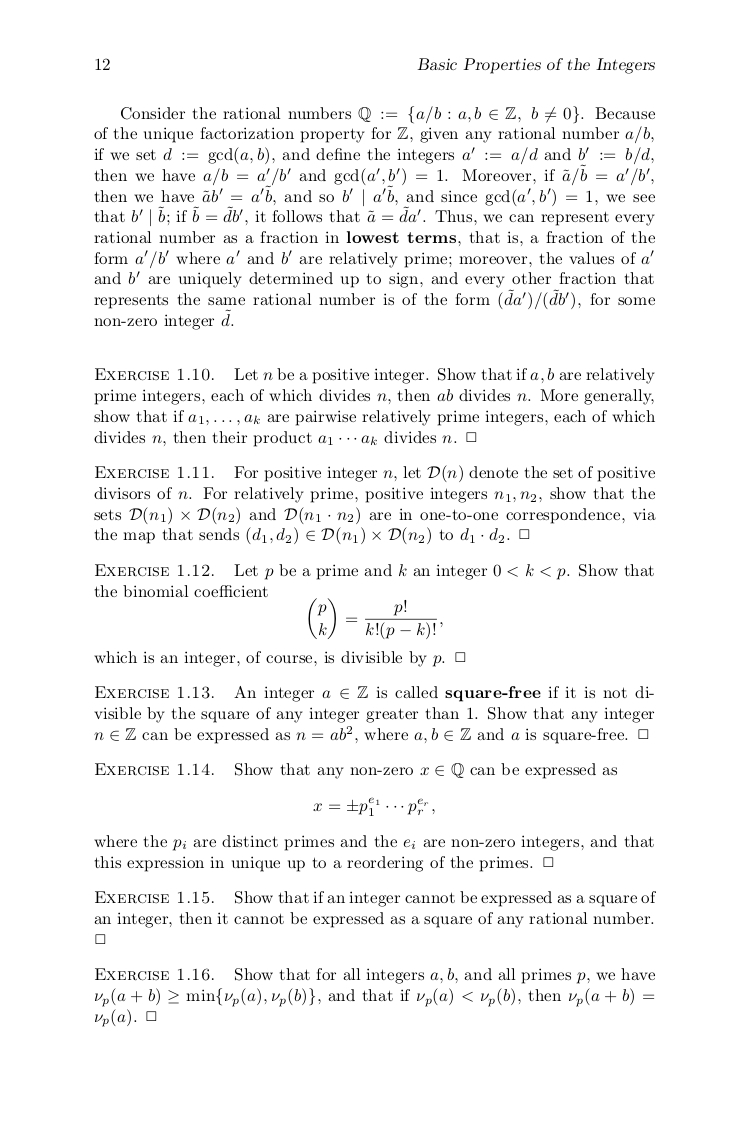formula: (308, 598, 442, 639), (313, 796, 434, 816)
